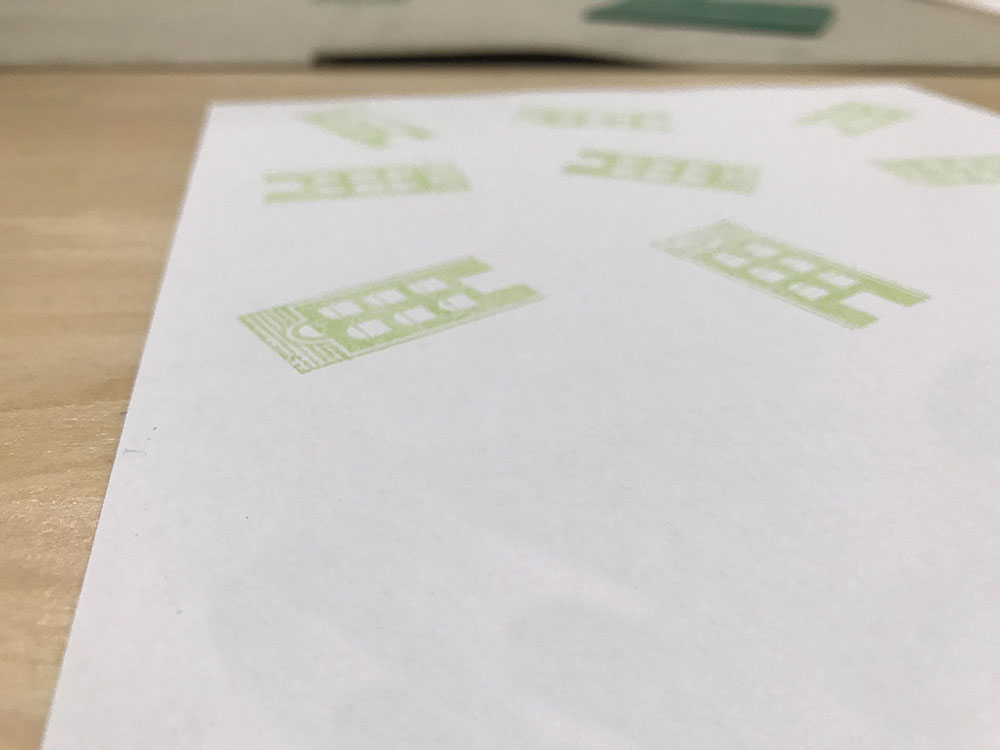build: (210, 252, 576, 380), (625, 207, 940, 341), (241, 150, 481, 216), (551, 146, 777, 202)
